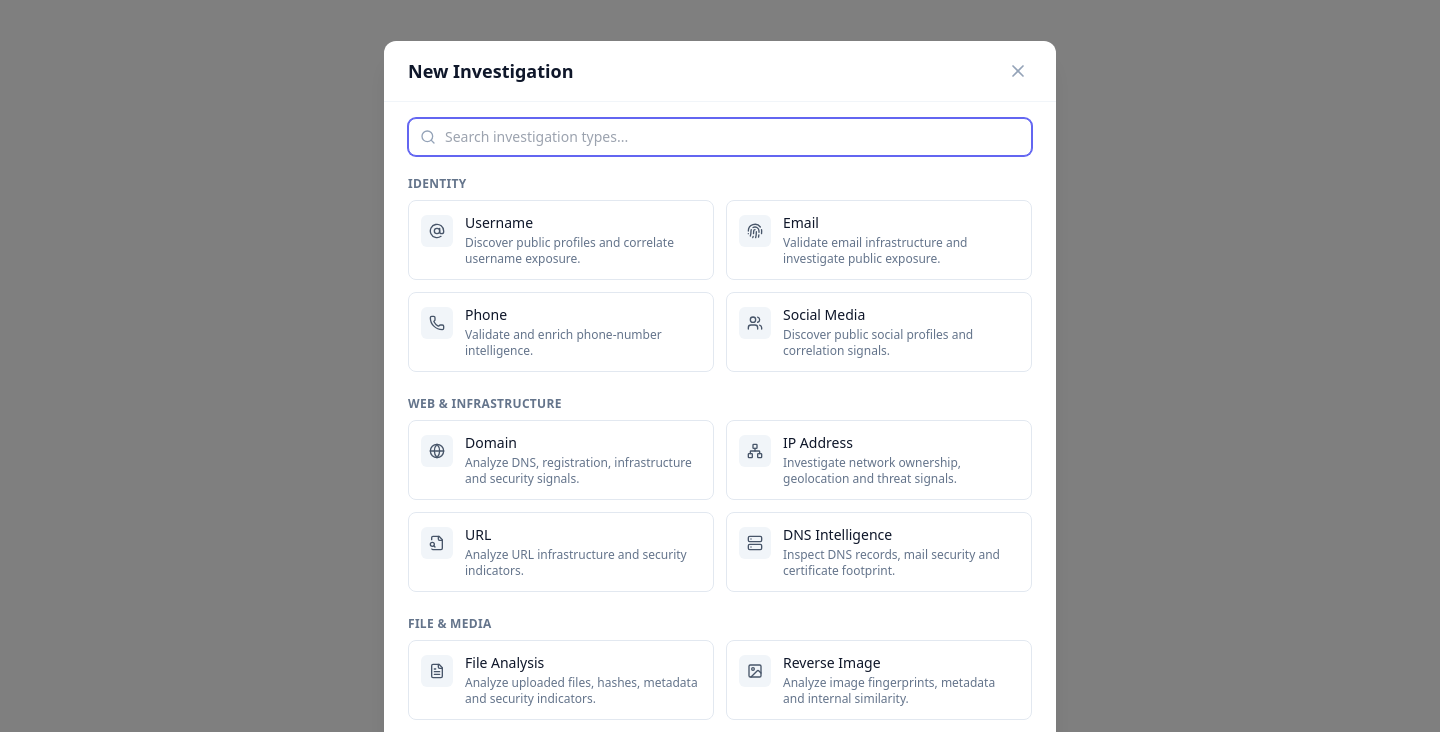
Test: NewInvestigationModal › renders the dynamic username input after selecting Username
Click the button with aria-label "Start a Username investigation" at (561, 240), box [408,200,714,280]
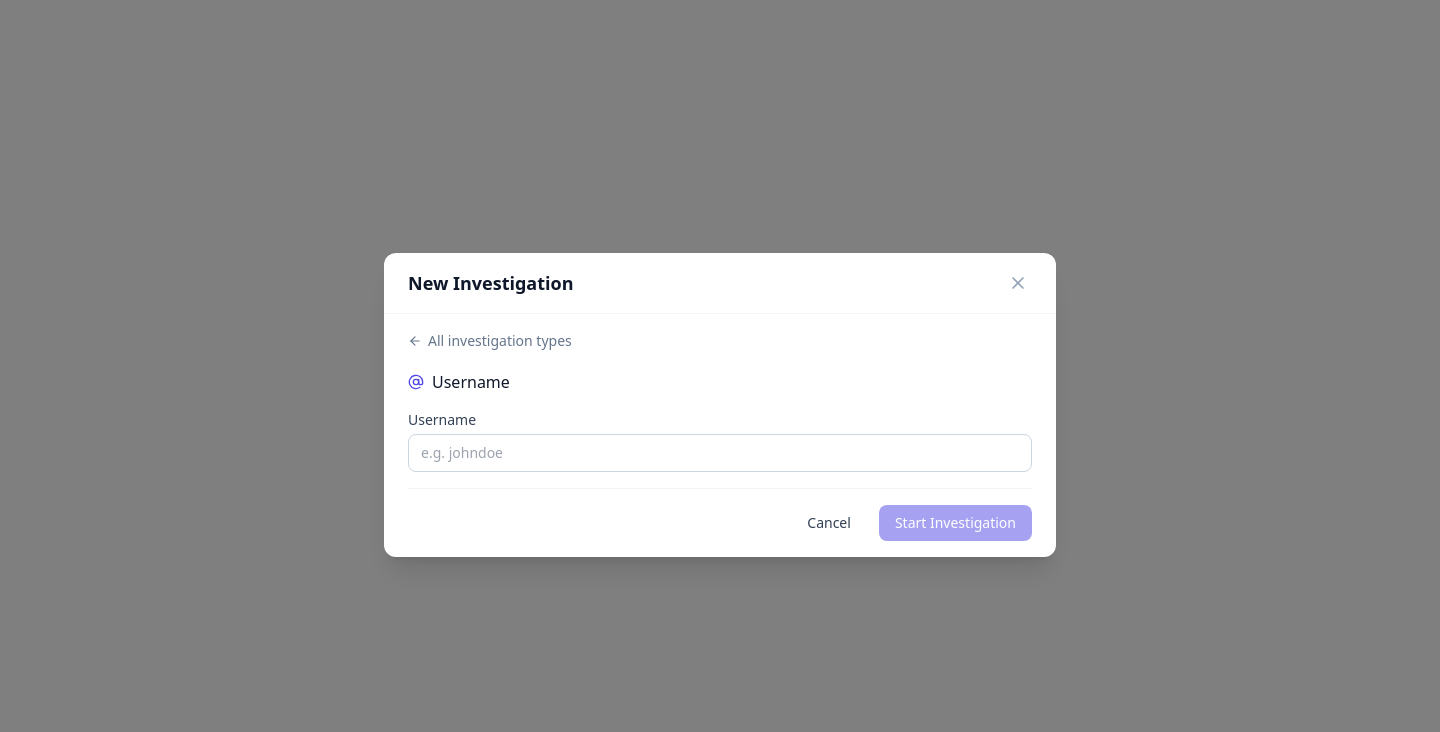
Check: the field labelled "Username" is shown, box [408,434,1032,472]
Check: the button "Start Investigation" is disabled, box [879,505,1032,541]
